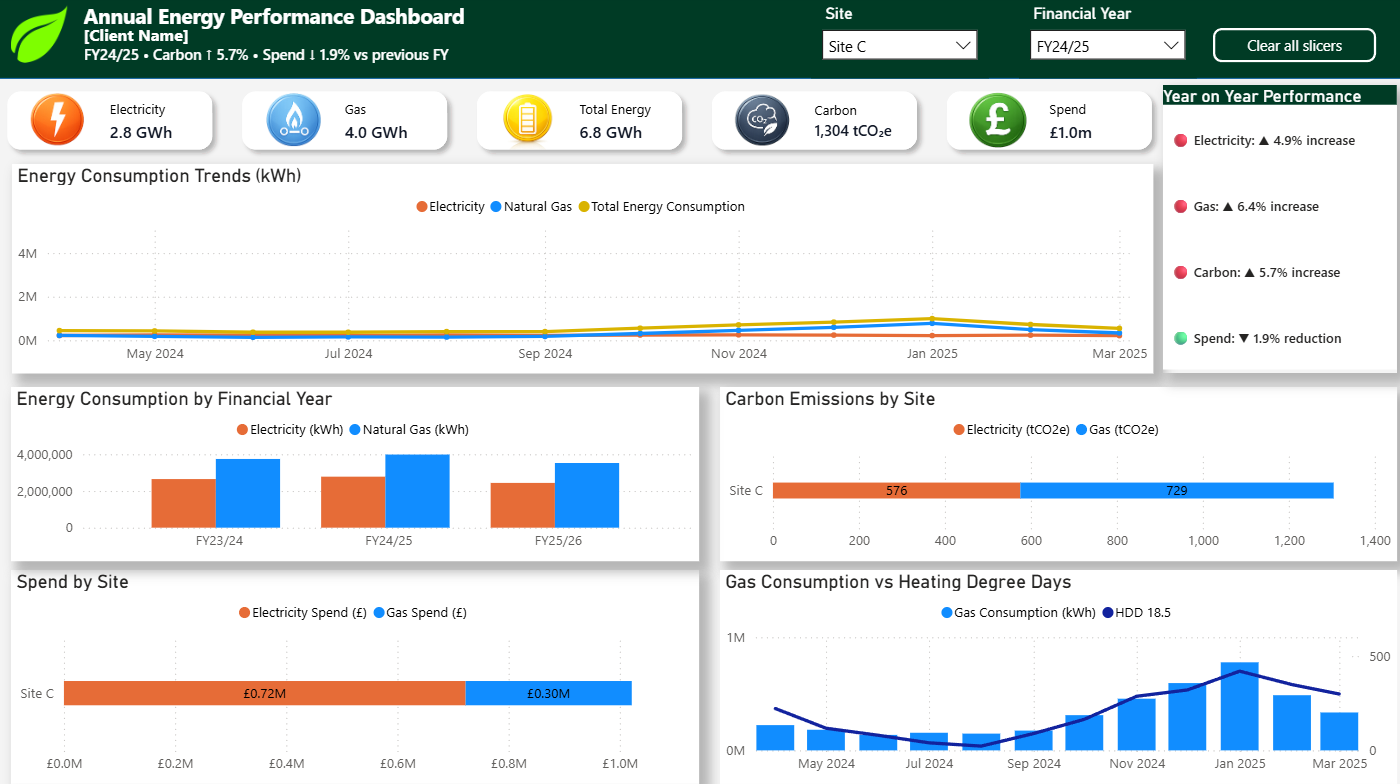

The dashboard page shown, as its layout file describes it:
{"tool":"powerbi","page":{"name":"Energy Performance Dashboard","canvas":[1280,720],"ordinal":0},"visuals":[{"type":"cardVisual","fields":{"Data":["Site_Summary.Electricity KPI","Site_Summary.Gas KPI","Site_Summary.Total Energy KPI","Site_Summary.Carbon KPI","Site_Summary.Spend KPI"]},"box":[0,74.5,1063.2,77.9],"z":0},{"type":"lineChart","title":"Energy Consumption Trends (kWh)","fields":{"Y":["Sum(Site_Summary.Electricity (kWh))","Sum(Site_Summary.Gas (kWh))","Site_Summary.Total Energy Consumption (kWh)"],"Category":["DateTable.Date"]},"box":[16,152.4,1035.2,189.9],"z":1000},{"type":"barChart","title":"Carbon Emissions by Site","fields":{"Category":["Site_Summary.Site"],"Y":["Sum(Site_Summary.Electricity (tCO2e))","Sum(Site_Summary.Gas (tCO2e))"]},"box":[658.5,354.4,613.7,157.6],"z":2000},{"type":"barChart","title":"Spend by Site","fields":{"Category":["Site_Summary.Site"],"Y":["Sum(Site_Summary.Electricity Spend (£))","Sum(Site_Summary.Gas Spend (£))"]},"box":[15.6,520.8,624.4,193.6],"z":3000},{"type":"clusteredColumnChart","title":"Energy Consumption by Financial Year","fields":{"Y":["Sum(Site_Summary.Electricity (kWh))","Sum(Site_Summary.Gas (kWh))"],"Category":["DateTable.FY"]},"box":[15.6,354.4,624.4,157.6],"z":4000},{"type":"shape","box":[0,0,1280.4,75.3],"z":5000},{"type":"textbox","box":[75.9,0,616.5,36],"z":6000},{"type":"slicer","fields":{"Values":["Site_Summary.Site"]},"box":[740.9,2.7,160.5,71.6],"z":8000},{"type":"slicer","fields":{"Values":["DateTable.FY"]},"box":[929.5,2.7,160.5,71.6],"z":9000},{"type":"image","box":[15.6,2.9,50.6,64.2],"z":10000},{"type":"lineStackedColumnComboChart","title":"Gas Consumption vs Heating Degree Days","fields":{"Category":["DateTable.Date"],"Y":["Sum(Site_Summary.Gas (kWh))"],"Y2":["Avg(HDD_18 5C.HDD 18.5)"]},"box":[658.5,520.8,613.7,193.6],"z":11000},{"type":"actionButton","box":[1105.1,29,147.9,31],"z":12000},{"type":"cardVisual","title":"Year on Year Performance","fields":{"Data":["Site_Summary.Electricity Insight","Site_Summary.Gas Insight","Site_Summary.Carbon Insight","Site_Summary.Spend Insight"]},"box":[1060.2,81.1,212,260.7],"z":13000},{"type":"textbox","box":[75.9,20,299.8,31],"z":14000},{"type":"cardVisual","fields":{"Data":["Site_Summary.Executive Summary"]},"box":[52.5,24.3,620.5,55.4],"z":14001}]}

Visuals, with their boxes in screenshot pixels (x1, y1, x2, y2), scaled from the page's 1280x720 canvas onto the 1400x784 screenshot:
cardVisual - Site_Summary.Electricity KPI x Site_Summary.Gas KPI: bbox=(0, 81, 1163, 166)
"Energy Consumption Trends (kWh)" lineChart: bbox=(18, 166, 1150, 373)
"Carbon Emissions by Site" barChart: bbox=(720, 386, 1391, 558)
"Spend by Site" barChart: bbox=(17, 567, 700, 778)
"Energy Consumption by Financial Year" clusteredColumnChart: bbox=(17, 386, 700, 558)
shape: bbox=(0, 0, 1399, 82)
textbox: bbox=(83, 0, 757, 39)
slicer - Site_Summary.Site: bbox=(810, 3, 986, 81)
slicer - DateTable.FY: bbox=(1017, 3, 1192, 81)
image: bbox=(17, 3, 72, 73)
"Gas Consumption vs Heating Degree Days" lineStackedColumnComboChart: bbox=(720, 567, 1391, 778)
actionButton: bbox=(1209, 32, 1370, 65)
"Year on Year Performance" cardVisual: bbox=(1160, 88, 1391, 372)
textbox: bbox=(83, 22, 411, 56)
cardVisual - Site_Summary.Executive Summary: bbox=(57, 26, 736, 87)
